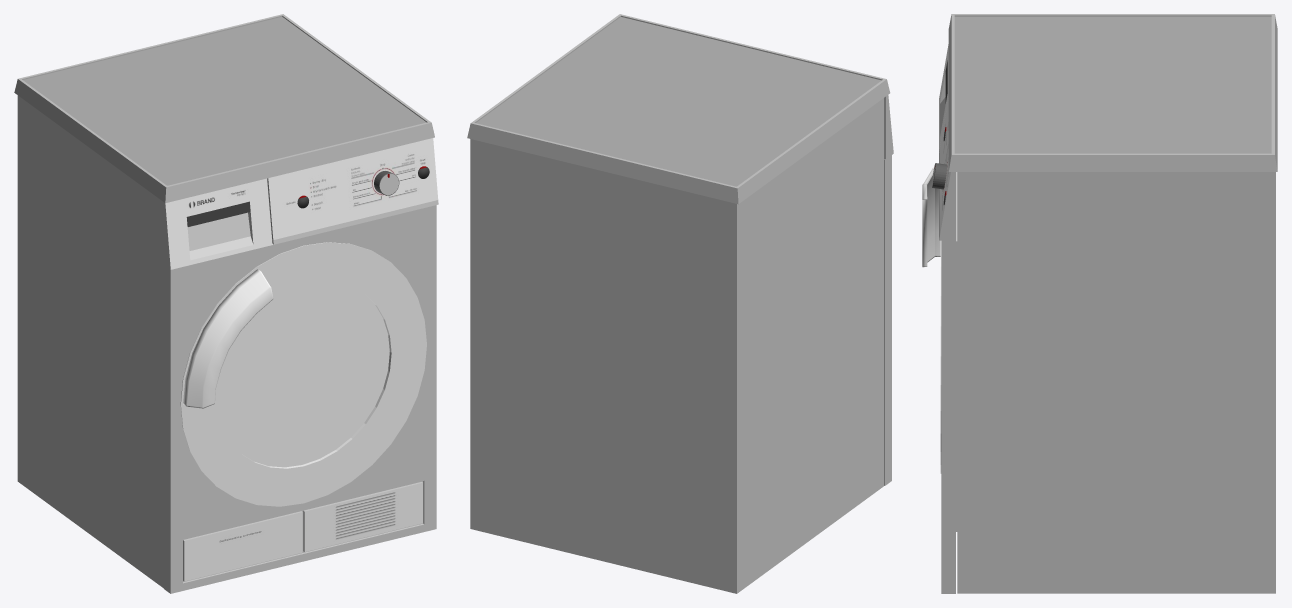
Rendered from dryer_machine.obj.
3 renders of one model, left to right at view 1: azimuth 30°, elevation 25°; view 2: azimuth 150°, elevation 25°; view 3: azimuth 270°, elevation 25°, orthographic. The views are drawn at different scales.
Parts seen in each view (by area): view 1: Cube.001, Cube.002, Cube.008_Cube.007, Cube, Cube.006, Cube.004_Cube.008, Cube.003, Cube.007_Cube.009; view 2: Cube.001, Cube.002, Cube; view 3: Cube.001, Cube.002, Cube, Cube.004_Cube.008, Cube.003, Cube.006.
Part boxes in pixels (x1=…): Cube.001: x1=17, y1=95, x2=163, y2=588; Cube.002: x1=14, y1=14, x2=434, y2=203; Cube.008_Cube.007: x1=180, y1=242, x2=426, y2=506; Cube: x1=164, y1=205, x2=436, y2=593; Cube.006: x1=165, y1=138, x2=438, y2=581; Cube.004_Cube.008: x1=183, y1=269, x2=273, y2=408; Cube.003: x1=163, y1=178, x2=438, y2=269; Cube.007_Cube.009: x1=186, y1=201, x2=250, y2=226; Cube.001: x1=470, y1=98, x2=883, y2=593; Cube.002: x1=467, y1=14, x2=890, y2=204; Cube: x1=884, y1=155, x2=891, y2=485; Cube.001: x1=957, y1=172, x2=1275, y2=593; Cube.002: x1=948, y1=14, x2=1277, y2=171; Cube: x1=941, y1=172, x2=957, y2=593; Cube.004_Cube.008: x1=922, y1=167, x2=940, y2=267; Cube.003: x1=939, y1=72, x2=955, y2=240; Cube.006: x1=939, y1=44, x2=950, y2=234.
Bounding box in the file's own units: 59 × 84.2 × 61.78.
Materials: 9 (2 with a texture image).
